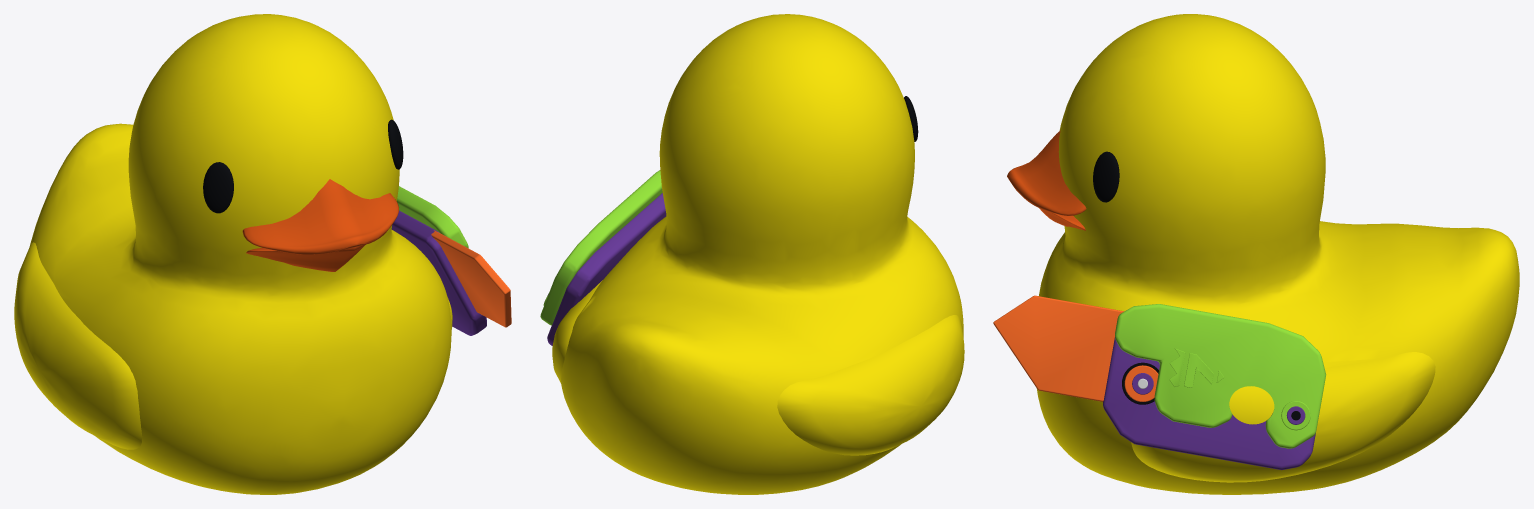
Rendered from RubberDuck_ToyKnife.fbx.
3 views of the same model, side by side, from view 1: azimuth 30°, elevation 25°; view 2: azimuth 150°, elevation 25°; view 3: azimuth 270°, elevation 25° (orthographic). The views are drawn at different scales.
Visible parts, largest first — view 1: RubberDuck, ToyKnife_Held; view 2: RubberDuck, ToyKnife_Held; view 3: RubberDuck, ToyKnife_Held.
Part boxes in pixels (x1,y1,x2,y2): RubberDuck: (14, 14, 452, 494); ToyKnife_Held: (391, 186, 511, 335); RubberDuck: (552, 14, 964, 494); ToyKnife_Held: (540, 170, 666, 345); RubberDuck: (1007, 14, 1519, 494); ToyKnife_Held: (993, 295, 1326, 470).
Bounding box in the file's own units: 0.1847 × 0.2 × 0.2173.
